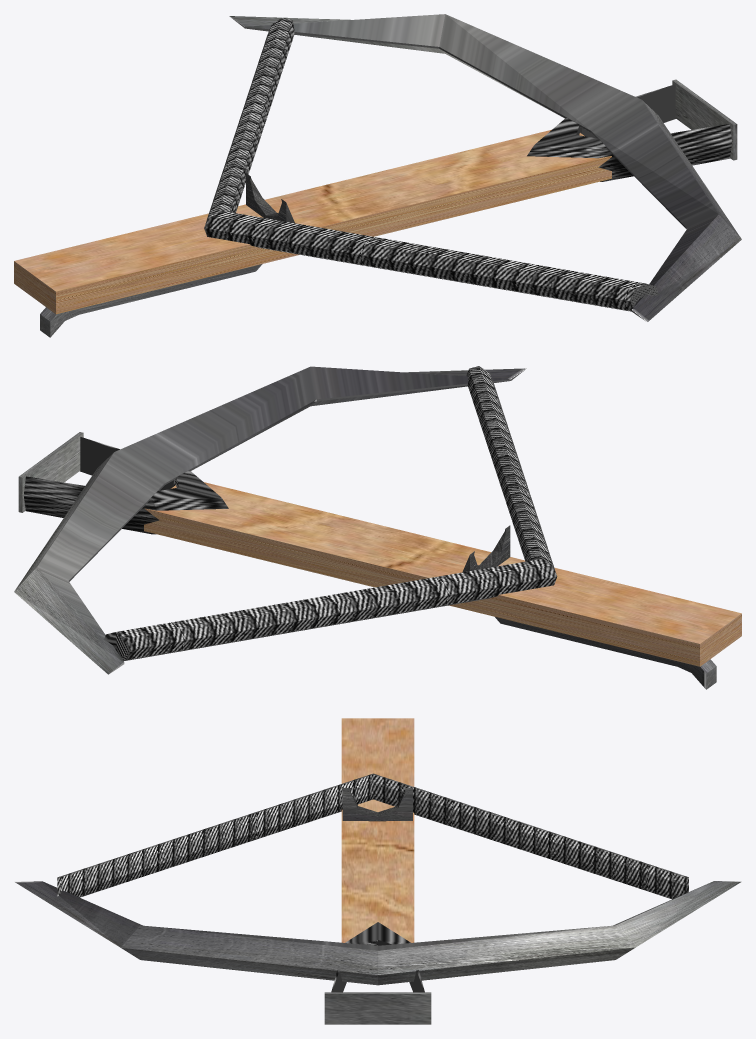
The model's file is Crossbow30.obj.
3 views of the same model, one above another, from view 1: azimuth 30°, elevation 25°; view 2: azimuth 150°, elevation 25°; view 3: azimuth 270°, elevation 25° (orthographic). The views are drawn at different scales.
Visible parts, largest first — view 1: Sphere.002, Sphere.001, Sphere; view 2: Sphere.002, Sphere.001, Sphere; view 3: Sphere.001, Sphere, Sphere.002.
Part boxes in pixels (left/top/right/bottom): Sphere.002: left=14, top=129, right=611, bottom=314; Sphere.001: left=40, top=14, right=741, bottom=337; Sphere: left=204, top=17, right=731, bottom=311; Sphere.002: left=144, top=482, right=741, bottom=666; Sphere.001: left=14, top=366, right=716, bottom=689; Sphere: left=23, top=366, right=557, bottom=660; Sphere.001: left=14, top=788, right=741, bottom=1024; Sphere: left=57, top=773, right=688, bottom=992; Sphere.002: left=341, top=718, right=414, bottom=942.
Size of the model in its own units: 4.67 by 0.6142 by 5.04.
